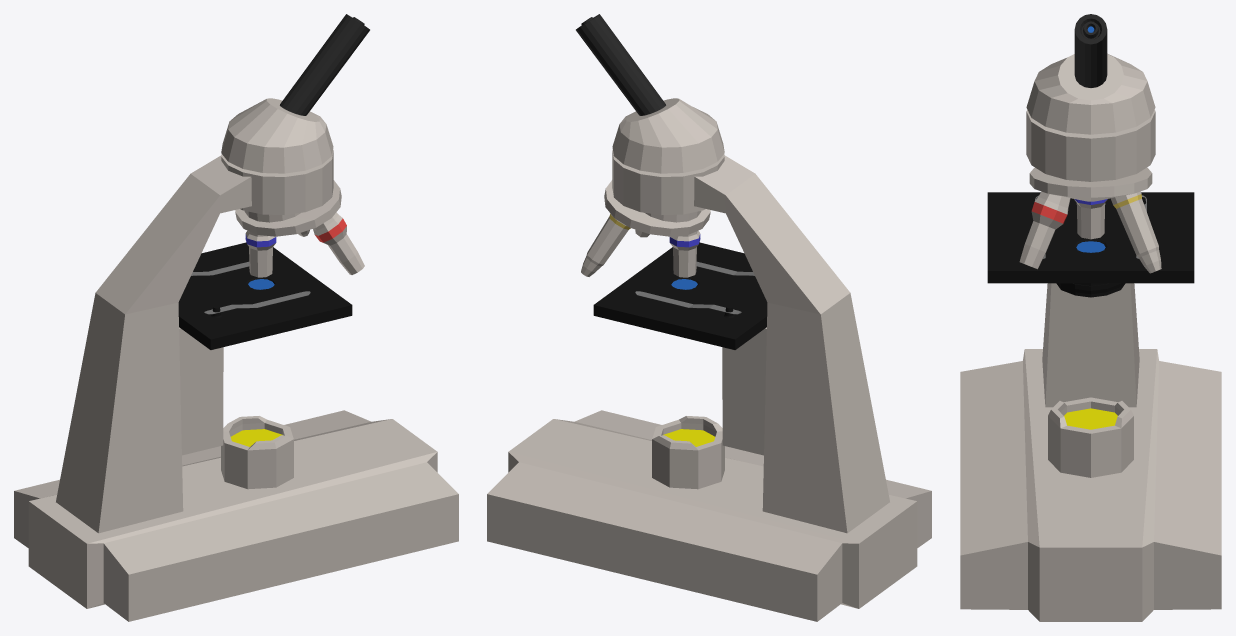
File: microscope_element.fbx
The picture shows the model from 3 angles, left to right: view 1: azimuth 30°, elevation 25°; view 2: azimuth 150°, elevation 25°; view 3: azimuth 270°, elevation 25°; orthographic projection. The views are drawn at different scales.
Visible parts, largest first — view 1: Microscope, Plate; view 2: Microscope, Plate; view 3: Microscope, Plate.
Boxes of the visible parts, x1,y1,x2,y2 form: Microscope: (14,14,458,621); Plate: (178,242,352,349); Microscope: (487,14,931,621); Plate: (593,242,767,349); Microscope: (960,14,1221,621); Plate: (987,192,1194,297).
Bounding box in the file's own units: 216 × 290 × 120.
